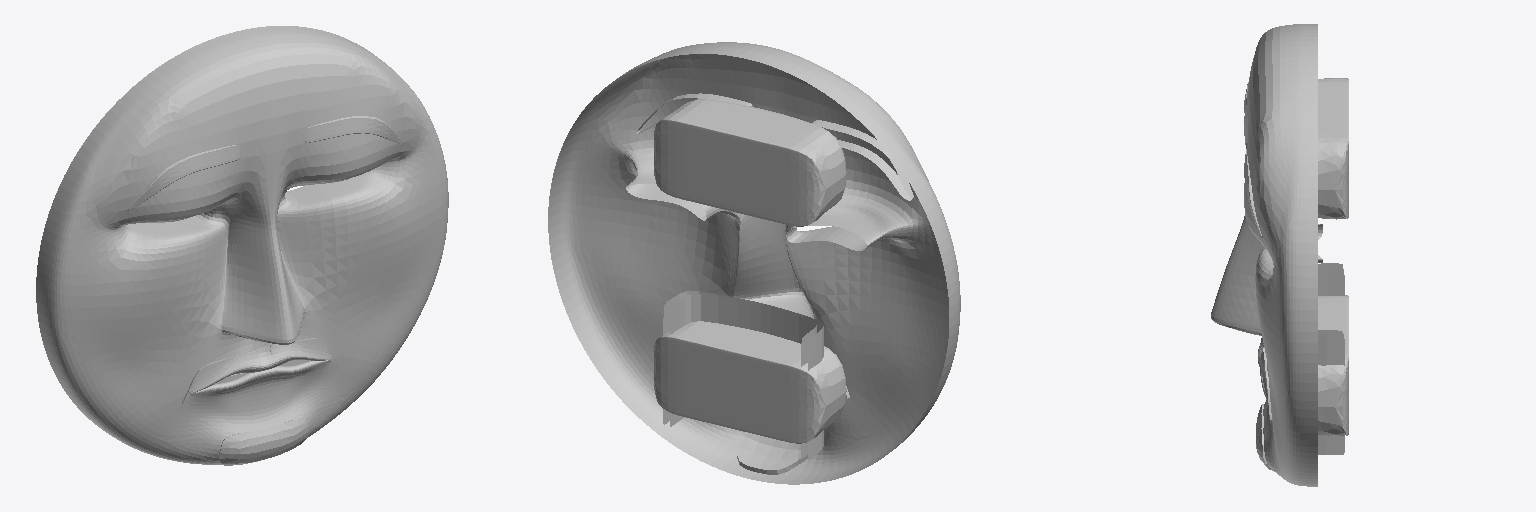
File: Ming Ding.obj
3 views of the same model, side by side, from view 1: azimuth 30°, elevation 25°; view 2: azimuth 150°, elevation 25°; view 3: azimuth 270°, elevation 25° (orthographic).
Parts seen in each view (by area): view 1: Circle.008_Circle.004; view 2: Circle.008_Circle.004; view 3: Circle.008_Circle.004.
Boxes of the visible parts, x1,y1,x2,y2 form: Circle.008_Circle.004: [36, 26, 448, 465]; Circle.008_Circle.004: [548, 42, 960, 484]; Circle.008_Circle.004: [1211, 24, 1348, 486].
Bounding box in the file's own units: 50.64 × 50.76 × 15.12.